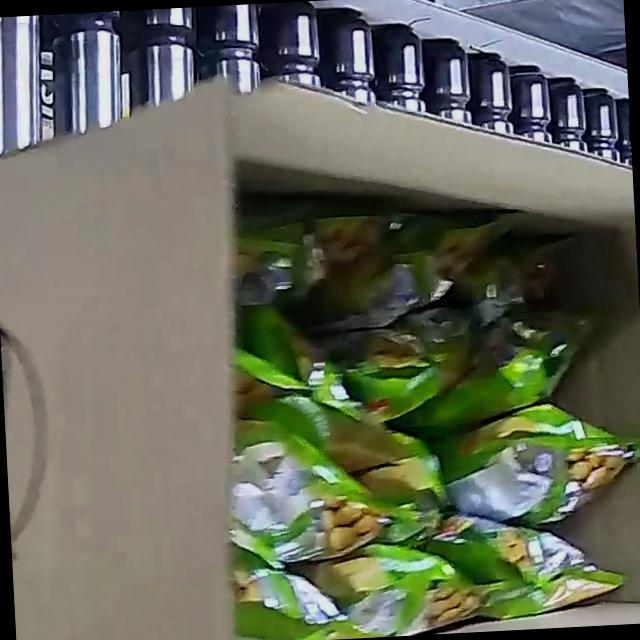yogurt: (211, 192, 640, 640)
